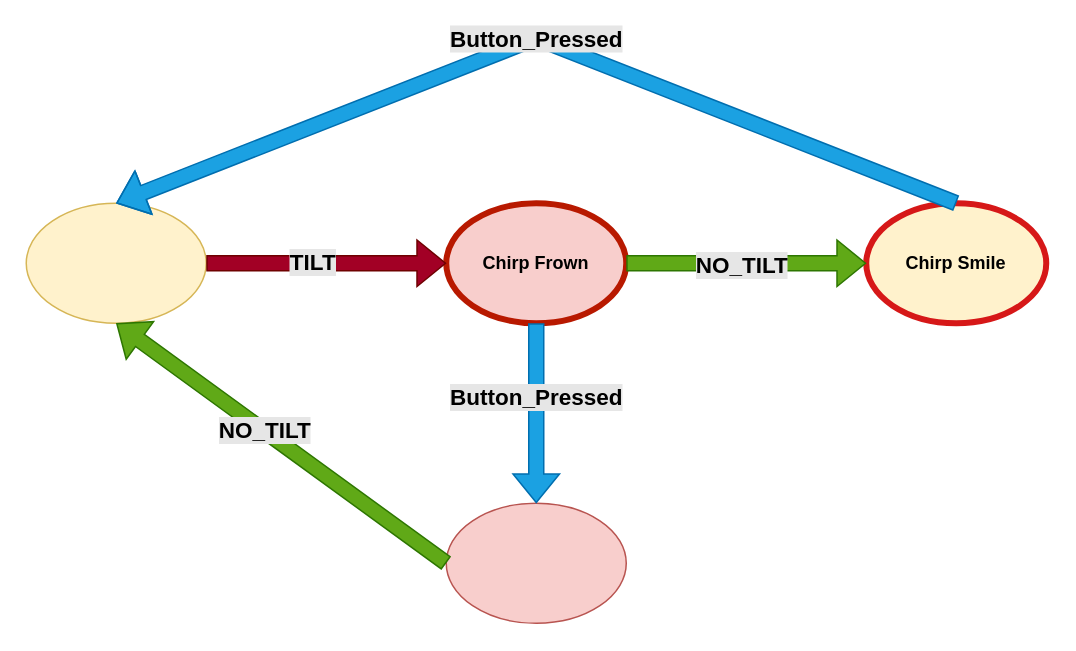
The diagram is 1076 pixels wide and 651 high, and some of its shapes have lost their labels. Each missing label, with the box of its shape:
Quiet Frown: (445, 502, 626, 623)
Quiet Smile: (25, 202, 206, 323)
